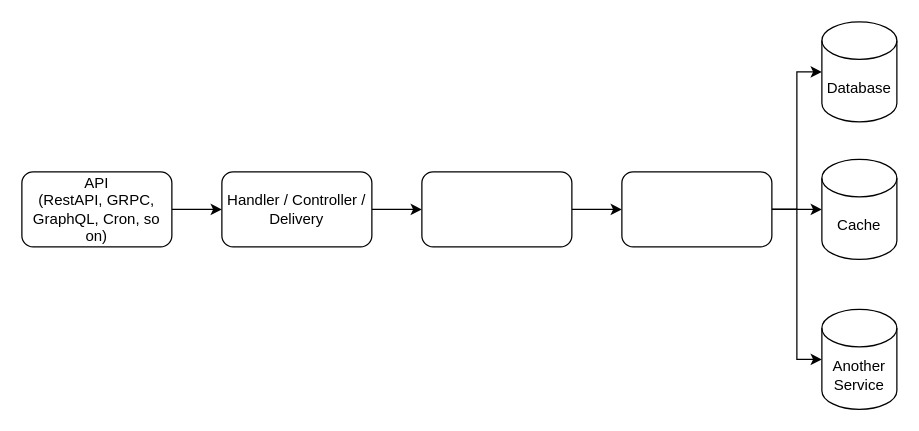
Image size: 919x431. Some labels were removed from this diagram. Here are the shapes that lost their labels. From the top down, the box of each, then its label:
(421, 171, 572, 247): Usecase / Service
(621, 171, 772, 247): Repository
